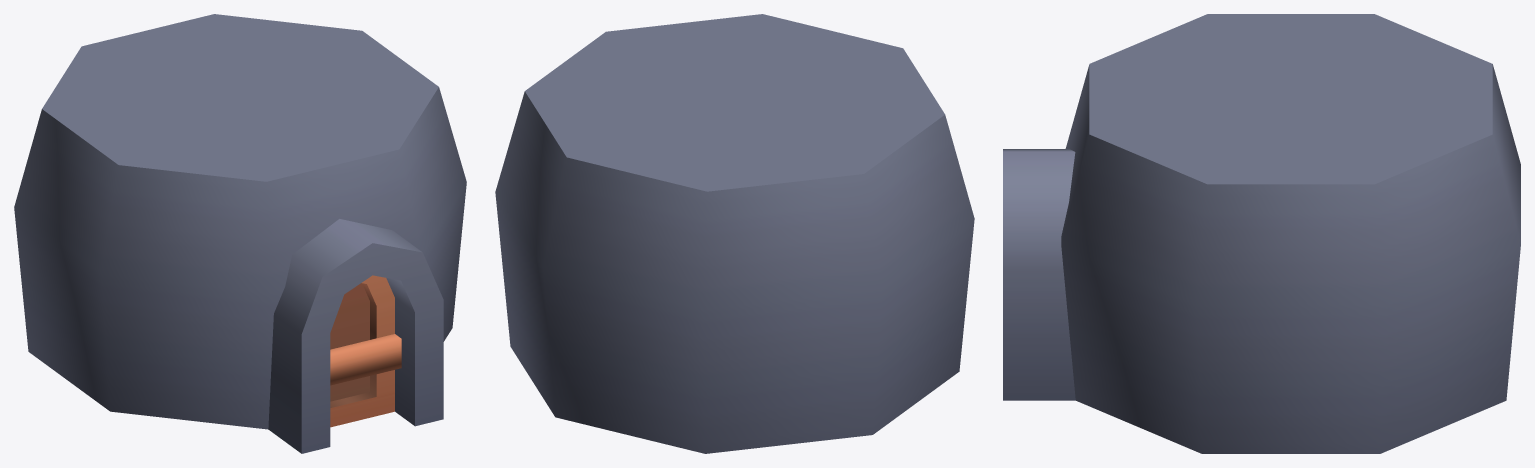
The model's file is kenney-pirate-tower-base-door.glb.
3 renders of one model, left to right at view 1: azimuth 30°, elevation 25°; view 2: azimuth 150°, elevation 25°; view 3: azimuth 270°, elevation 25°, orthographic. The views are drawn at different scales.
Visible parts, largest first — view 1: tower-base-door; view 2: tower-base-door; view 3: tower-base-door.
Boxes of the visible parts, x1=… form: tower-base-door: x1=14, y1=14, x2=466, y2=453; tower-base-door: x1=495, y1=14, x2=974, y2=453; tower-base-door: x1=1003, y1=14, x2=1520, y2=453.
Size of the model in its own units: 3.16 by 2 by 3.56.
1 material, 1 textured.
